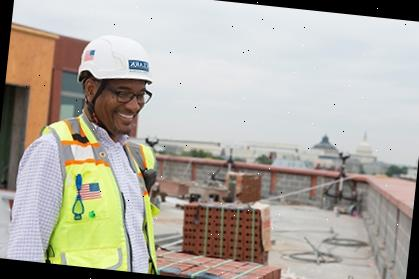helmet: (77, 32, 159, 88)
wear: (6, 128, 168, 274)
